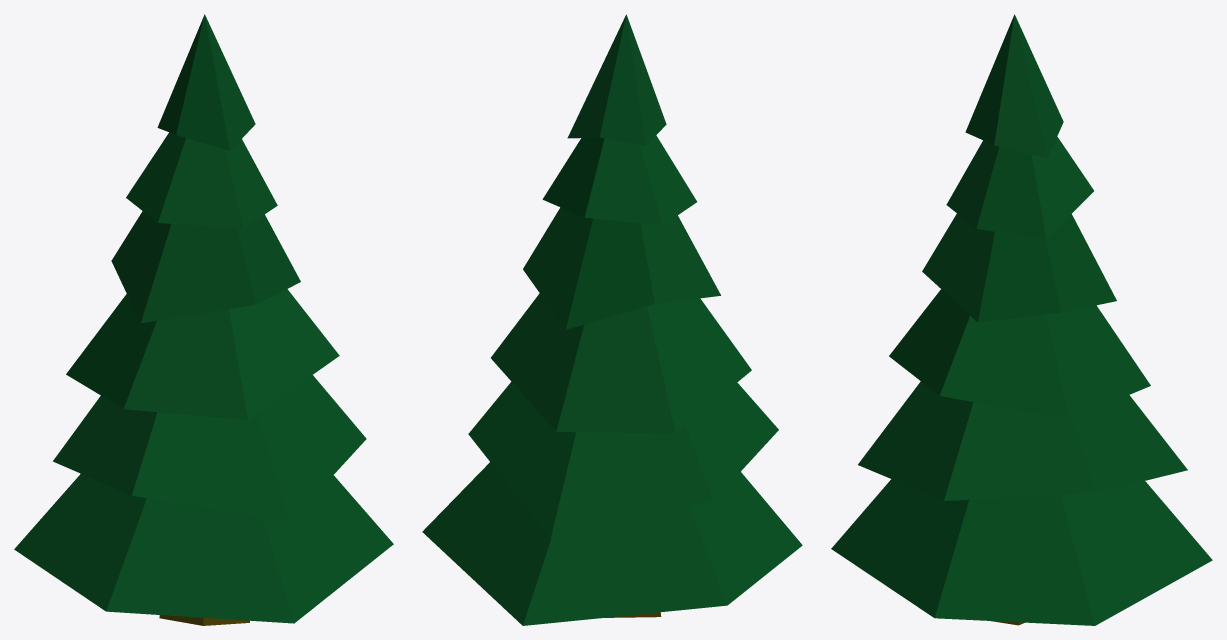
The model's file is Tree6.fbx.
The picture shows the model from 3 angles, left to right: view 1: azimuth 30°, elevation 25°; view 2: azimuth 150°, elevation 25°; view 3: azimuth 270°, elevation 25°; orthographic projection.
Visible parts, largest first — view 1: Wood.001; view 2: Wood.001; view 3: Wood.001.
Part boxes in pixels (x1,y1,x2,y2): Wood.001: (14, 14, 393, 625); Wood.001: (422, 14, 802, 625); Wood.001: (831, 14, 1212, 625).
Bounding box in the file's own units: 616 × 1124 × 656.
